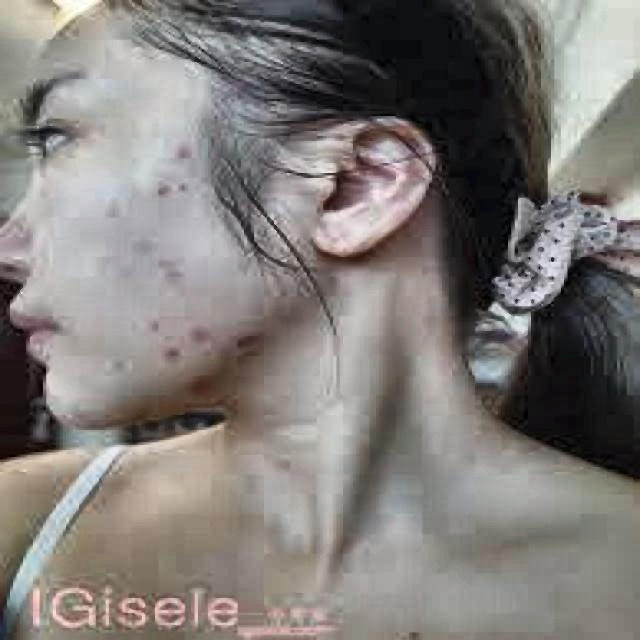pustule: (138, 173, 184, 217), (224, 324, 264, 356), (155, 140, 198, 160), (175, 318, 208, 338), (178, 376, 208, 398), (152, 344, 188, 358)
